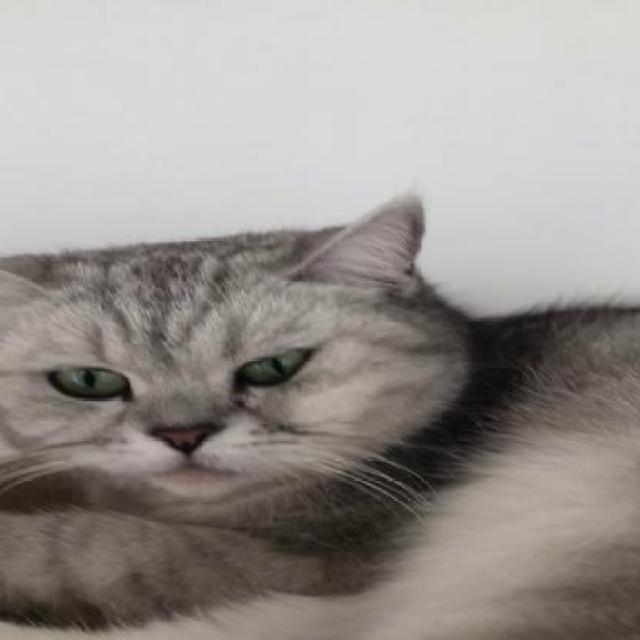cat-face: (2, 237, 456, 491)
